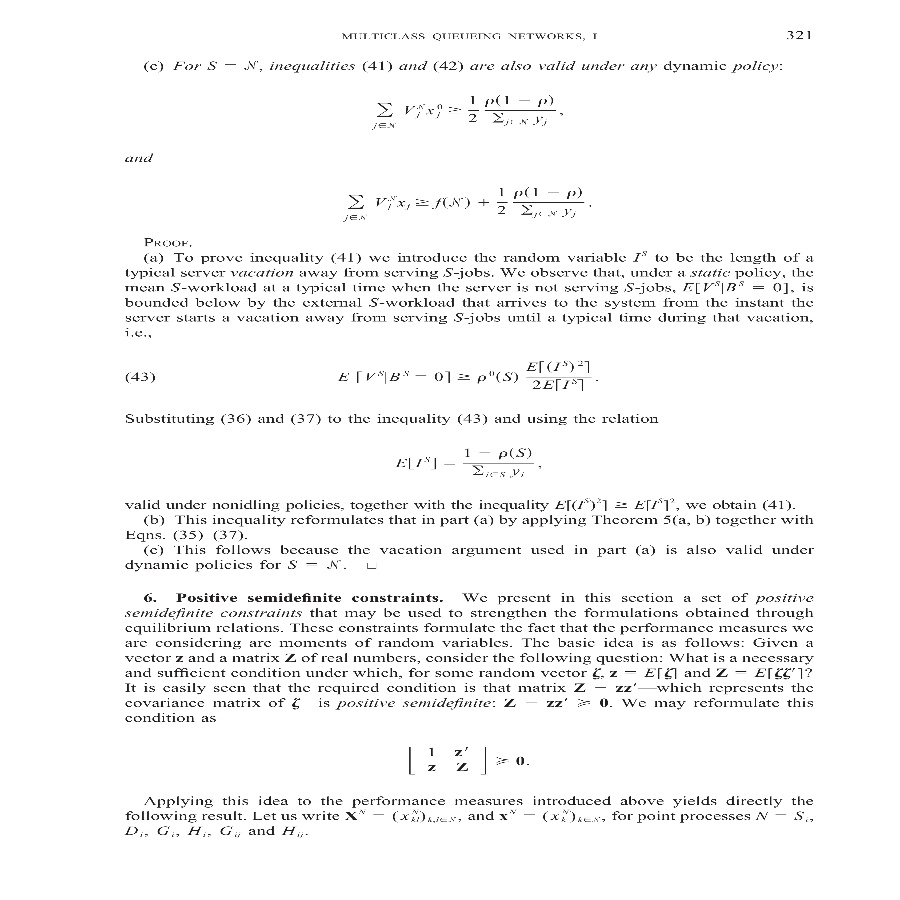eq: (337, 355, 594, 396), (339, 184, 588, 223), (367, 89, 558, 131), (387, 442, 534, 484), (401, 738, 525, 778)
